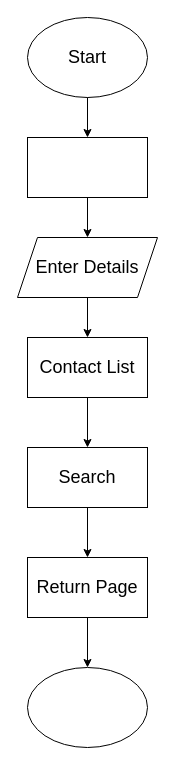
The diagram is 175 pixels wide and 765 high, and some of its shapes have lost their labels. Each missing label, with the centre of its shape:
Exit: the point at 87,707
Main Menu: the point at 87,167
